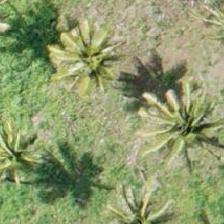coconut_tree: (38, 19, 128, 109), (140, 87, 223, 177), (0, 102, 49, 192)
